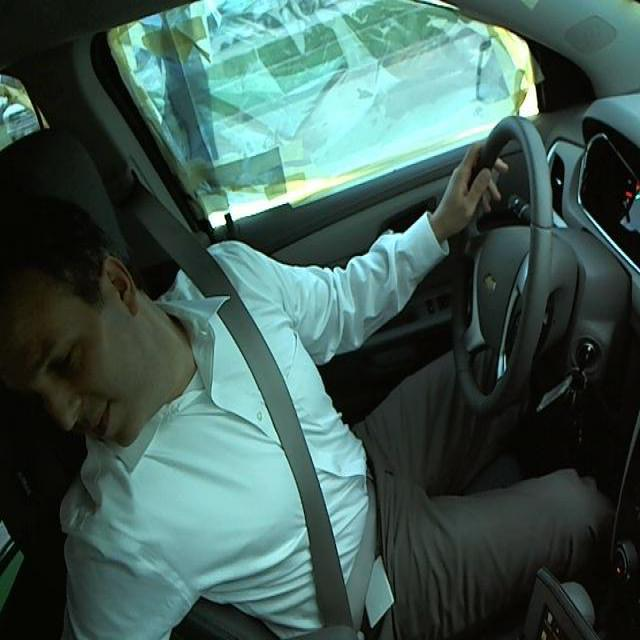seatbelt: (185, 262, 388, 618)
